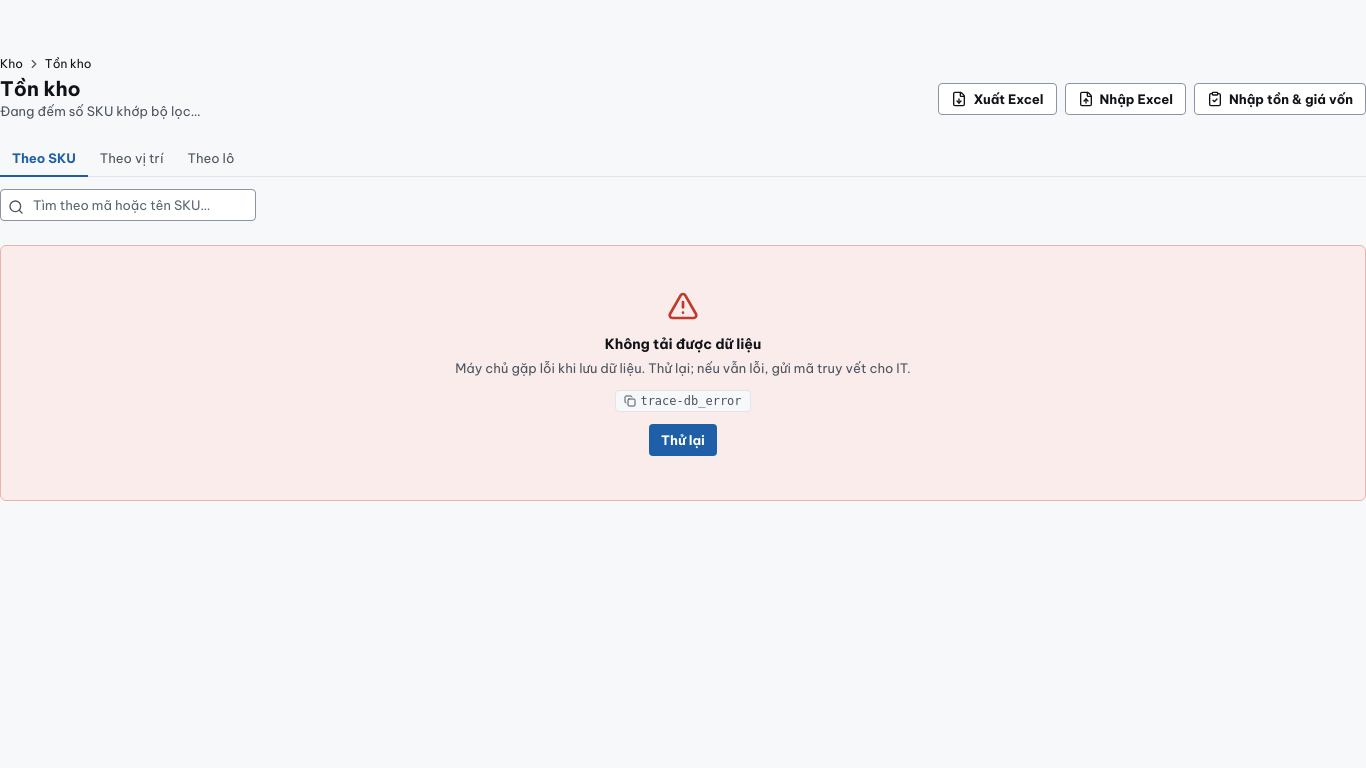
Test: StockScreen — GET /stock, /stock/by-location, /stock/by-lot (P1-12) › error 500: ErrorState có traceId, thử lại thì refetch
expect the message is shown: met, box [0,245,1365,501]
expect the button "trace-db_error" is shown: met, box [615,390,751,412]
Step 1. Click the button "Thử lại" → (683,440), box [649,424,717,456]
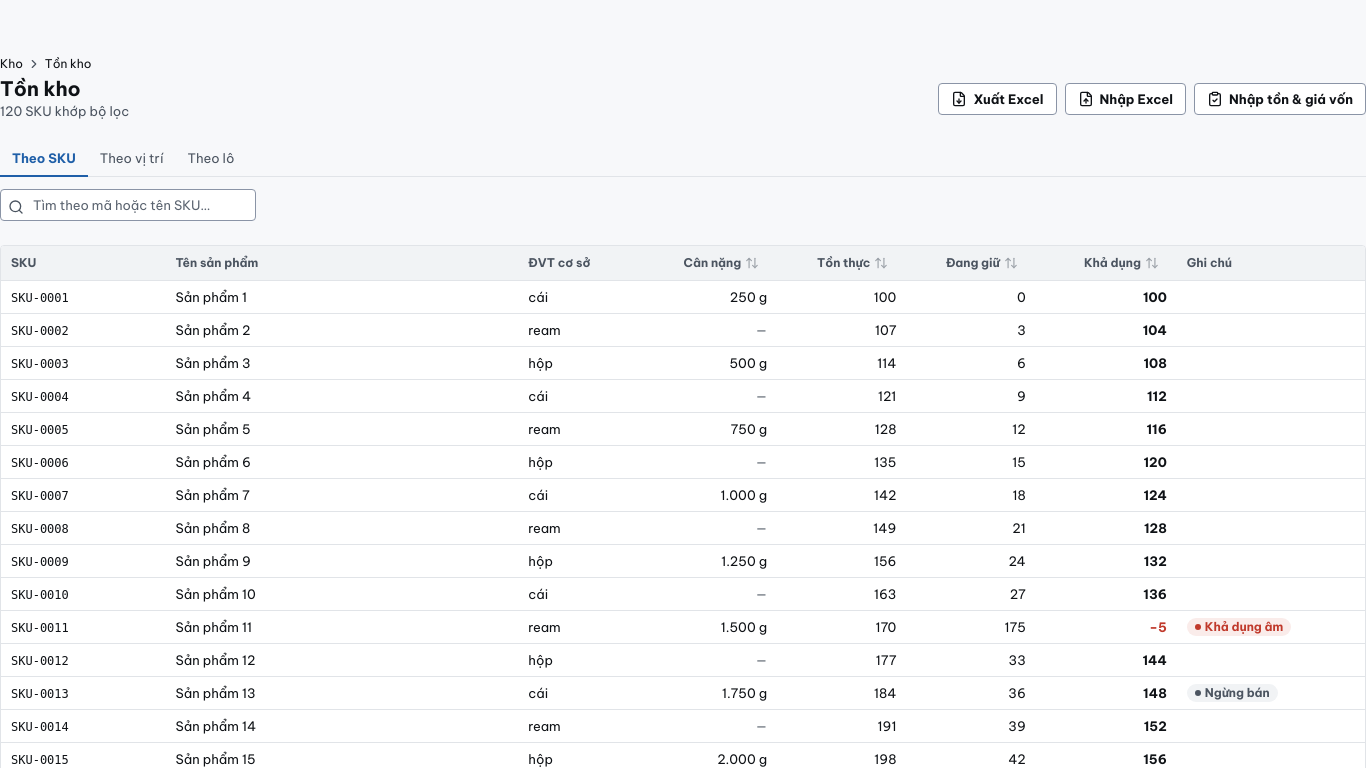
expect the text "SKU-0001" is shown: met, box [11,291,69,305]
